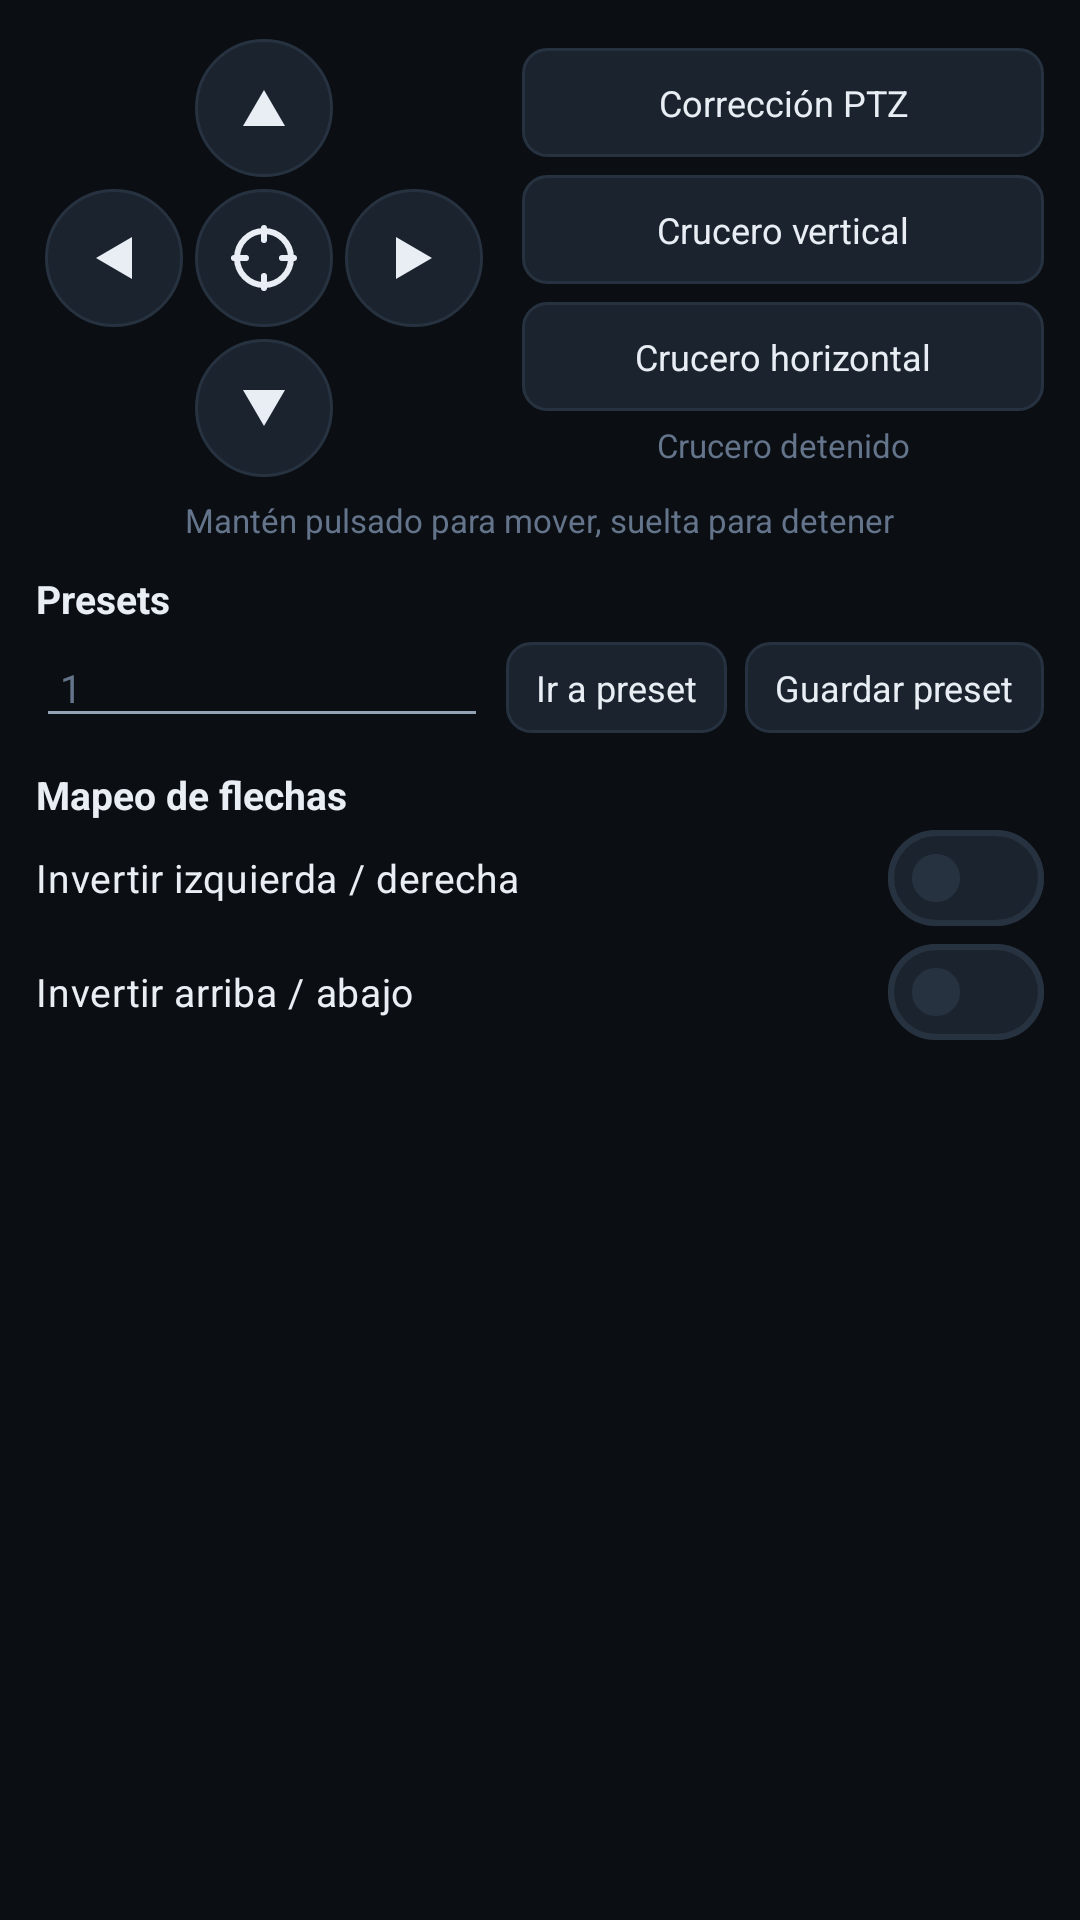

Locate icon controls on the screen. Image size 1080px×1920px, boxes as rect(x1, y1, x2, y2).
Centrar: rect(195, 189, 333, 327)
up: rect(195, 39, 333, 177)
